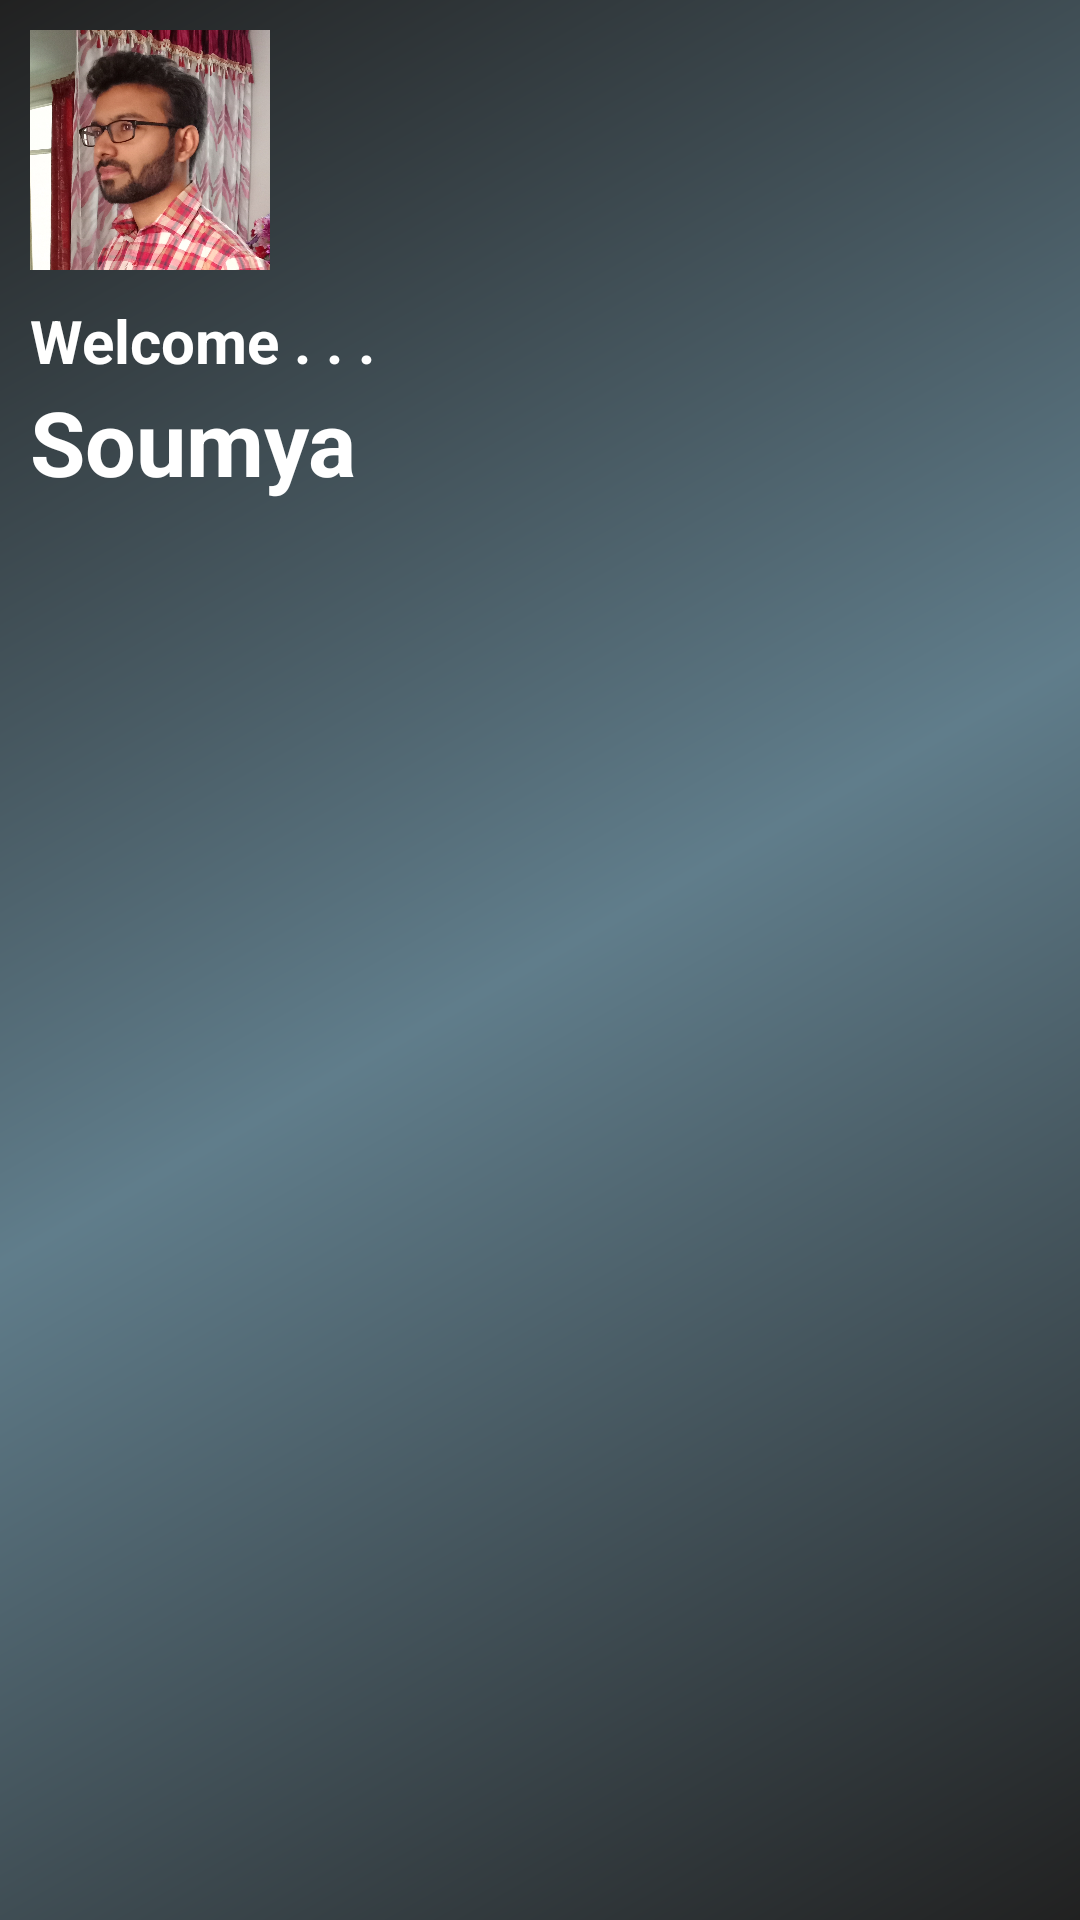

Locate icon controls on the screen. Image size 1080 x 1920, boxes as (x1=x1, y1=y1, x2=x2, y2=y2).
selfie: (x1=30, y1=30, x2=270, y2=270)
